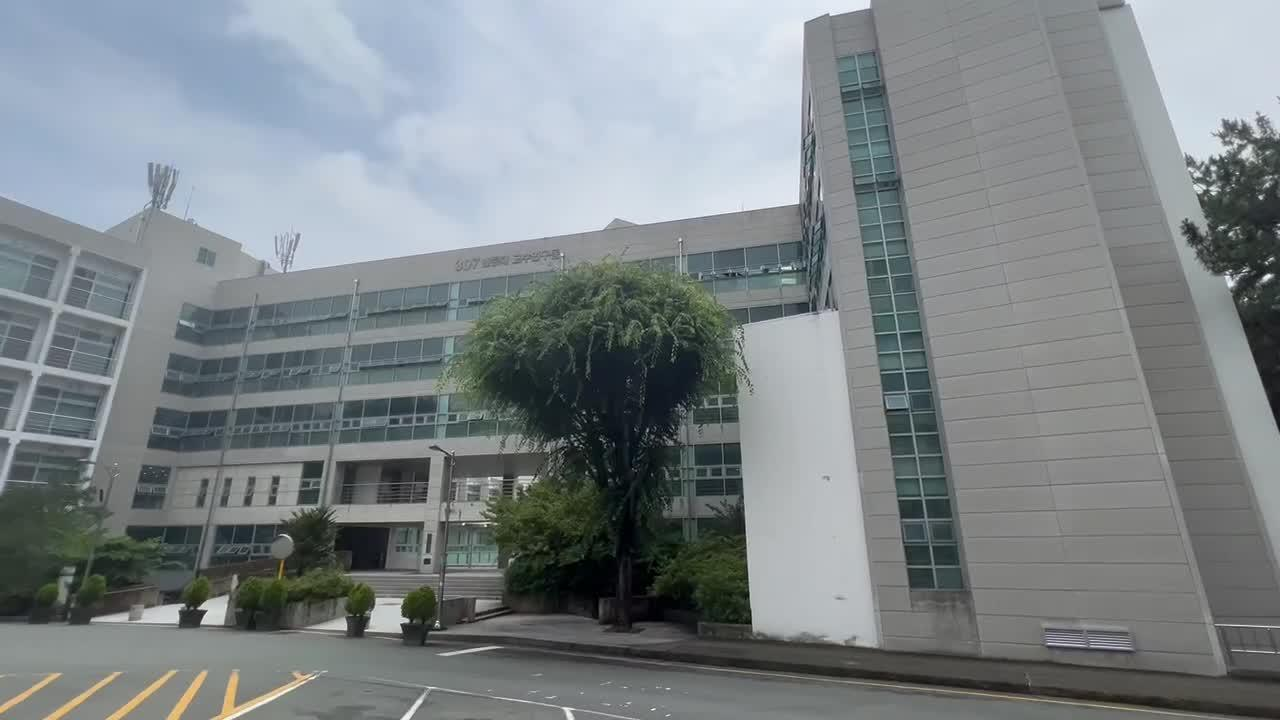building: (753, 7, 1204, 679)
